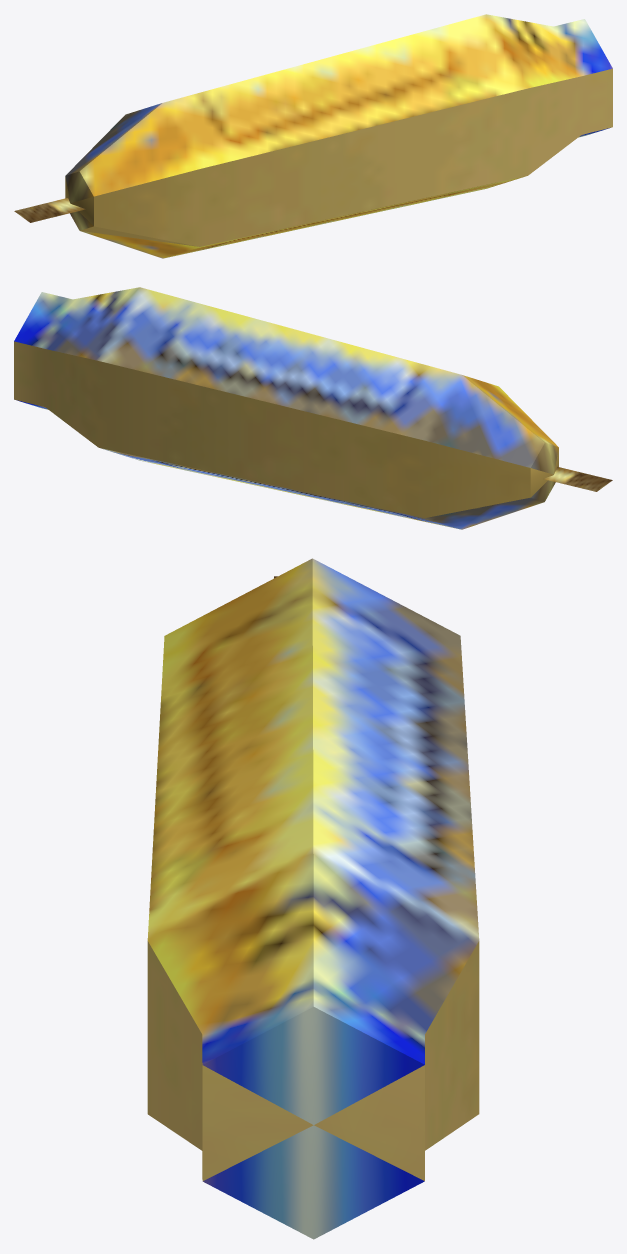
3 views of the same model, one above another, from view 1: azimuth 30°, elevation 25°; view 2: azimuth 150°, elevation 25°; view 3: azimuth 270°, elevation 25° (orthographic). The views are drawn at different scales.
Parts seen in each view (by area): view 1: aw217; view 2: aw217; view 3: aw217.
Part boxes in pixels (<box>): aw217: <box>14,14,612,258</box>; aw217: <box>14,287,612,529</box>; aw217: <box>147,558,479,1239</box>.
Size of the model in its own units: 18.43 by 5.43 by 4.7.
Materials: 1 (1 with a texture image).
